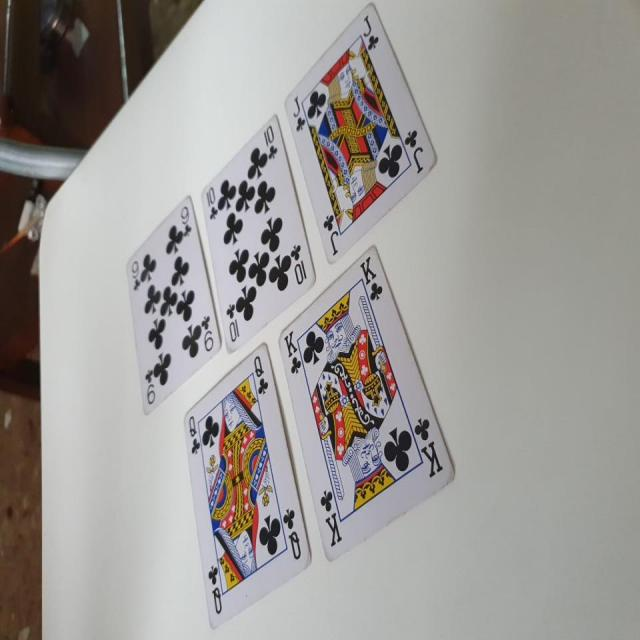10 Trefoils: (201, 113, 316, 352)
9 Trefoils: (123, 192, 222, 415)
J Trefoils: (282, 1, 438, 265)
K Trefoils: (277, 245, 458, 562)
Q Trefoils: (184, 344, 313, 632)
